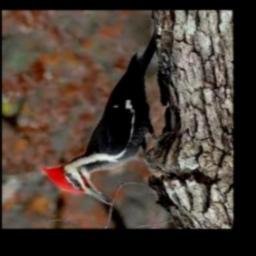Woodpecker: (41, 24, 158, 205)
